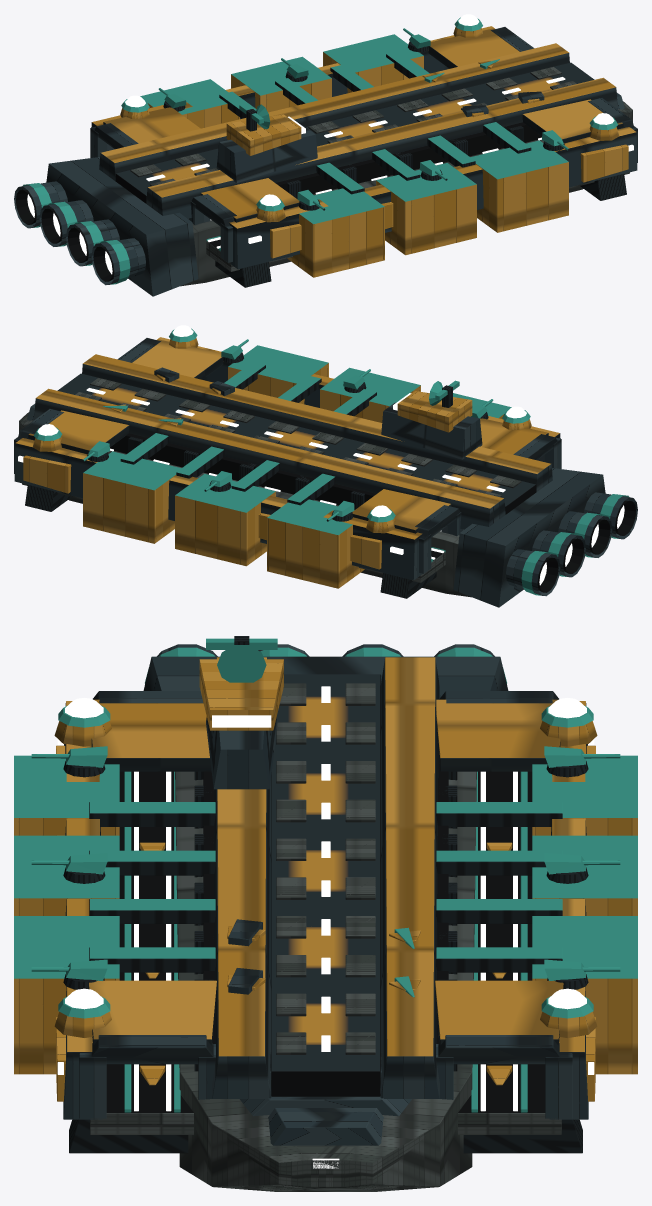
Rendered from carrier.glb.
The picture shows the model from 3 angles, top to bottom: view 1: azimuth 30°, elevation 25°; view 2: azimuth 150°, elevation 25°; view 3: azimuth 270°, elevation 25°; orthographic projection. The views are drawn at different scales.
Parts seen in each view (by area): view 1: hull_body, engine_block, sensor_island, shield_domes, weapon_turrets; view 2: hull_body, engine_block, sensor_island, shield_domes, weapon_turrets; view 3: hull_body, sensor_island, shield_domes, engine_block, weapon_turrets.
Part boxes in pixels (box(x1,y1,x2,y2)): hull_body: box(90, 26, 637, 287); engine_block: box(14, 157, 198, 296); sensor_island: box(216, 104, 317, 182); shield_domes: box(120, 14, 618, 222); weapon_turrets: box(158, 28, 569, 210); hull_body: box(14, 337, 561, 598); engine_block: box(453, 468, 637, 607); sensor_island: box(381, 380, 482, 459); shield_domes: box(33, 325, 531, 533); weapon_turrets: box(82, 339, 493, 521); hull_body: box(14, 657, 637, 1191); sensor_island: box(199, 636, 283, 789); shield_domes: box(54, 698, 597, 1037); engine_block: box(143, 644, 508, 697); weapon_turrets: box(31, 746, 620, 989).
Size of the model in its own units: 55 by 13.97 by 29.92.
Materials: 1 (1 with a texture image).
